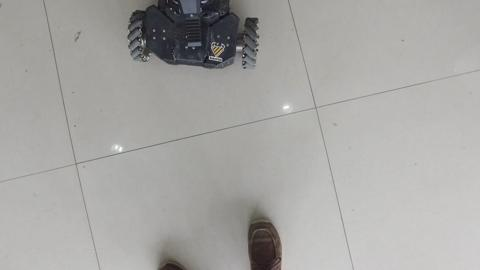chariot: (120, 1, 262, 76)
